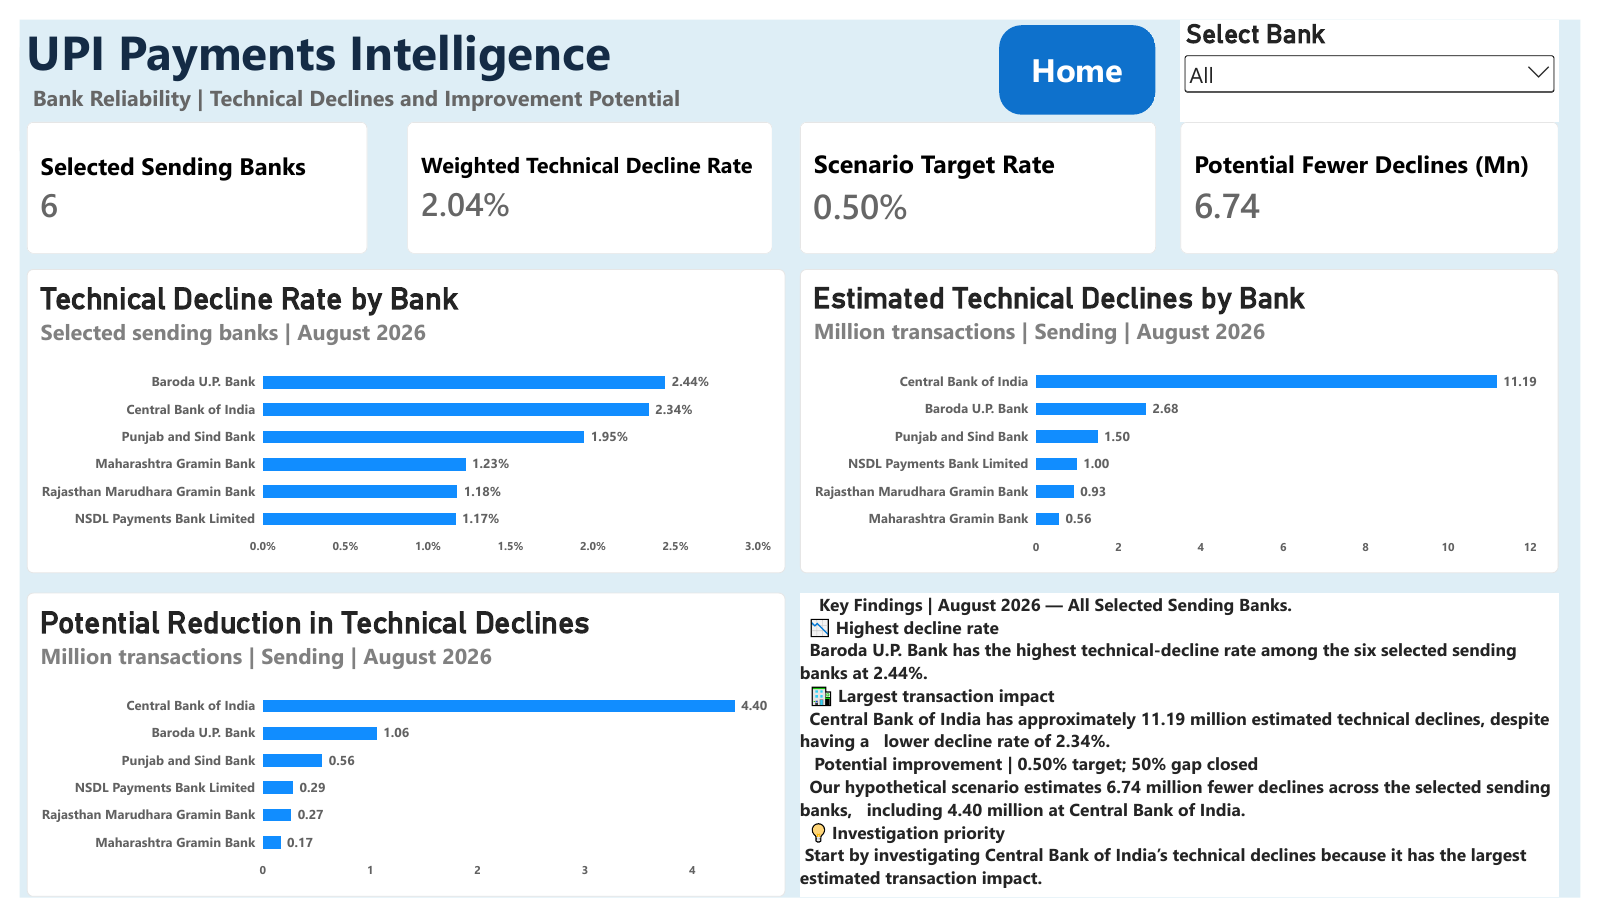

Layout of this report page (visuals, bound fields, positions):
{"tool":"powerbi","page":{"name":"Bank Reliability","canvas":[1920,1080],"ordinal":3},"visuals":[{"type":"textbox","box":[9.4,0,806.5,159.4],"z":0},{"type":"clusteredBarChart","title":"Technical Decline Rate by Bank","fields":{"Category":["dim_bank.bank"],"Y":["fact_bank.Technical Decline Rate"]},"box":[9.3,307,932.6,374.4],"z":1000},{"type":"clusteredBarChart","title":"Estimated Technical Declines by Bank","fields":{"Category":["dim_bank.bank"],"Y":["Sum(fact_bank.estimated_td_mn)"]},"box":[960.5,307,932.6,374.4],"z":2000},{"type":"cardVisual","fields":{"Data":["fact_bank.Selected Banks"]},"box":[9.3,125.6,418.6,162.8],"z":3000},{"type":"cardVisual","fields":{"Data":["fact_bank.Technical Decline Rate"]},"box":[476.7,125.6,448.8,162.8],"z":4000},{"type":"cardVisual","fields":{"Data":["Avg(fact_bank.target_td_rate)"]},"box":[960.5,125.6,437.2,162.8],"z":5000},{"type":"cardVisual","fields":{"Data":["Sum(fact_bank.scenario_avoided_mn)"]},"box":[1427.9,125.6,465.1,162.8],"z":6000},{"type":"slicer","fields":{"Values":["dim_bank.bank"]},"box":[1427.9,0,465.1,125.6],"z":7000},{"type":"clusteredBarChart","title":"Potential Reduction in Technical Declines","fields":{"Category":["dim_bank.bank"],"Y":["Sum(fact_bank.scenario_avoided_mn)"]},"box":[9.3,704.7,932.6,374.4],"z":8000},{"type":"textbox","box":[960.5,704.7,932.6,374.4],"z":9000},{"type":"actionButton","box":[1205.1,7,192.2,110.2],"z":9001}]}

Visuals, with their boxes in screenshot pixels (x1, y1, x2, y2), scaled from the page's 1920x1080 canvas onto the 1600x918 screenshot:
textbox: locate(8, 0, 680, 135)
"Technical Decline Rate by Bank" clusteredBarChart: locate(8, 261, 785, 579)
"Estimated Technical Declines by Bank" clusteredBarChart: locate(800, 261, 1578, 579)
cardVisual - fact_bank.Selected Banks: locate(8, 107, 357, 245)
cardVisual - fact_bank.Technical Decline Rate: locate(397, 107, 771, 245)
cardVisual - Avg(fact_bank.target_td_rate): locate(800, 107, 1165, 245)
cardVisual - Sum(fact_bank.scenario_avoided_mn): locate(1190, 107, 1578, 245)
slicer - dim_bank.bank: locate(1190, 0, 1578, 107)
"Potential Reduction in Technical Declines" clusteredBarChart: locate(8, 599, 785, 917)
textbox: locate(800, 599, 1578, 917)
actionButton: locate(1004, 6, 1164, 100)
